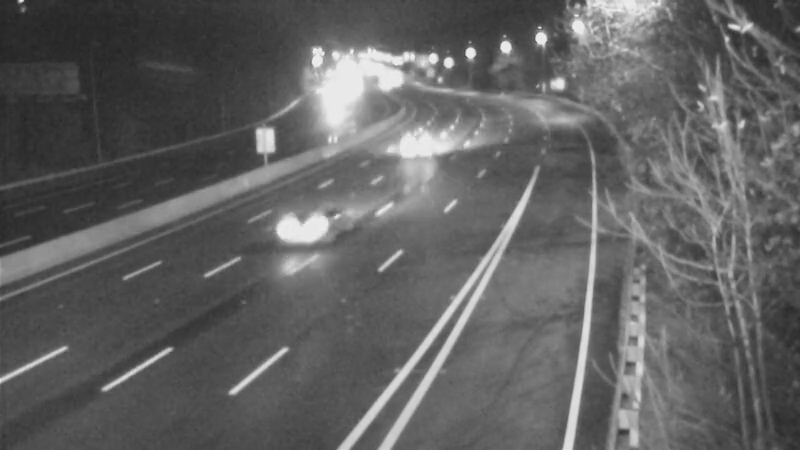vehicle: (265, 191, 345, 271), (391, 121, 441, 171)
